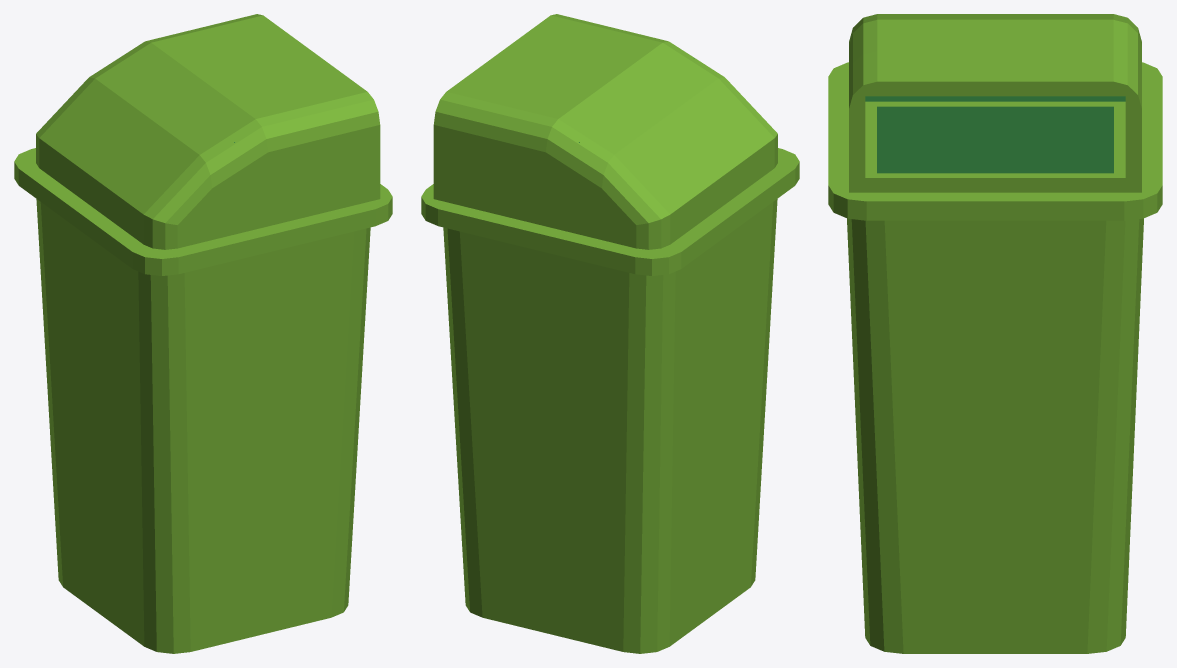
Rendered from Reciclable.fbx.
3 renders of one model, left to right at view 1: azimuth 30°, elevation 25°; view 2: azimuth 150°, elevation 25°; view 3: azimuth 270°, elevation 25°, orthographic. The views are drawn at different scales.
Visible parts, largest first — view 1: Cube; view 2: Cube; view 3: Cube.
Part boxes in pixels (x1,y1,x2,y2): Cube: (14,14,392,653); Cube: (421,14,799,653); Cube: (828,14,1162,653).
Bounding box in the file's own units: 256 × 491 × 256.
